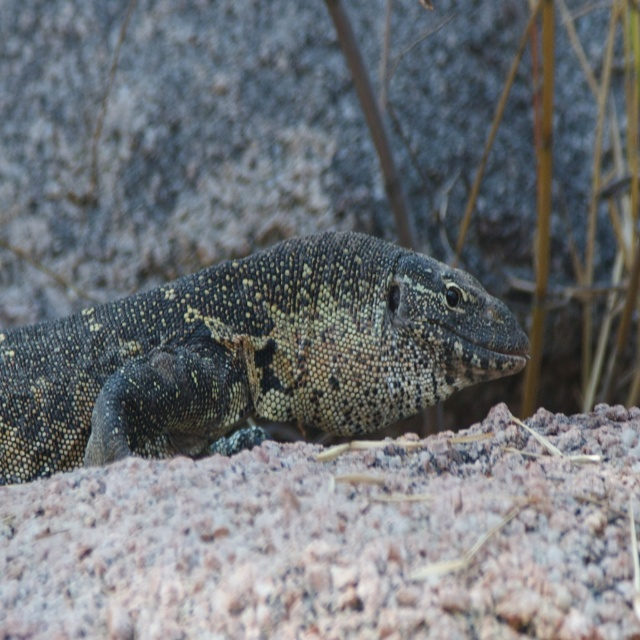Lizard: (11, 229, 521, 485)
